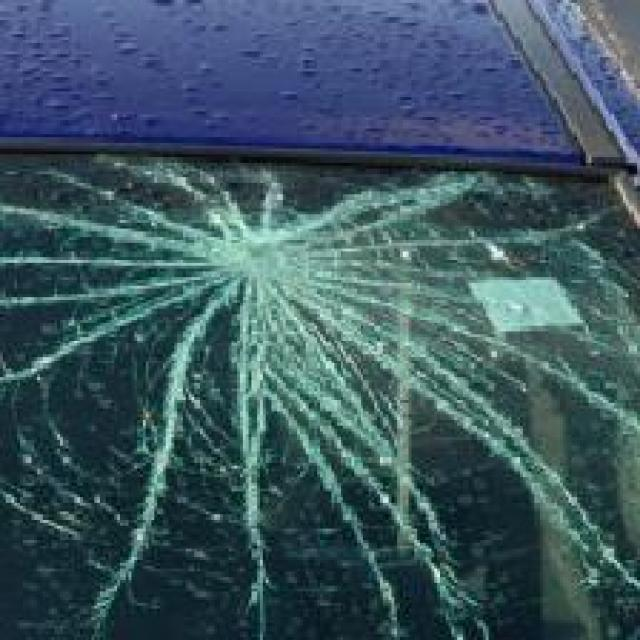damaged: (2, 157, 638, 634)
